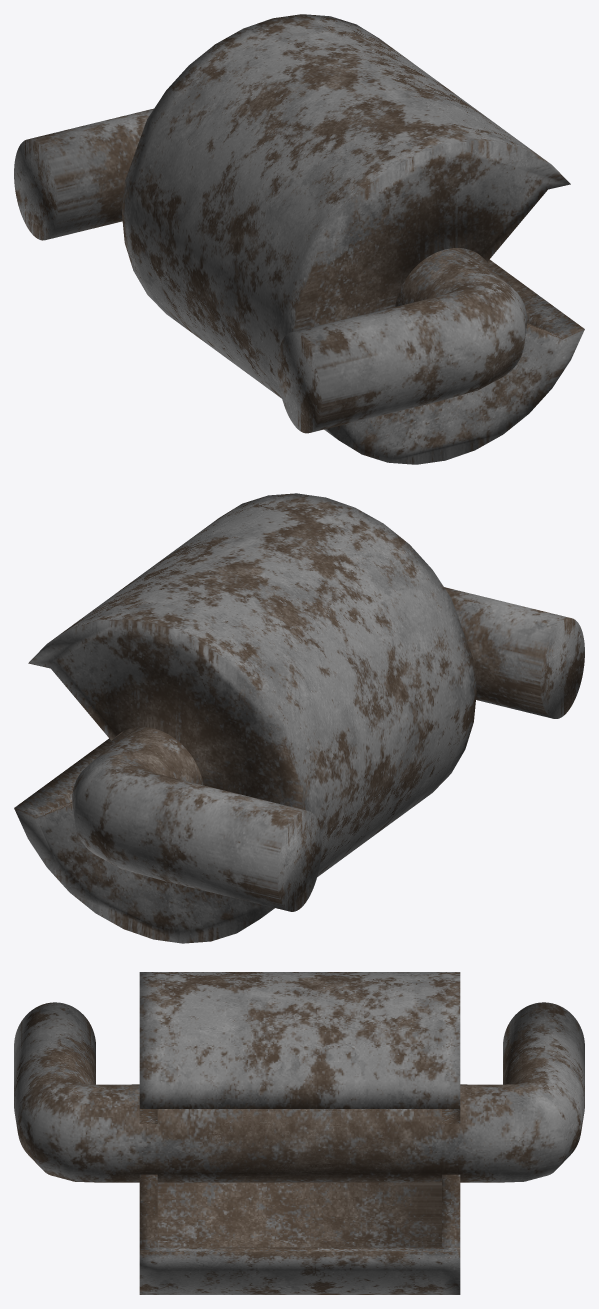
Rendered from do_rolki.glb.
The picture shows the model from 3 angles, top to bottom: view 1: azimuth 30°, elevation 25°; view 2: azimuth 150°, elevation 25°; view 3: azimuth 270°, elevation 25°; orthographic projection. The views are drawn at different scales.
Parts seen in each view (by area): view 1: Cylinder.001, Cylinder.003; view 2: Cylinder.001, Cylinder.003; view 3: Cylinder.001, Cylinder.003.
Part boxes in pixels (box(x1,y1,x2,y2)): Cylinder.001: box(122, 14, 584, 464); Cylinder.003: box(14, 108, 526, 433); Cylinder.001: box(14, 493, 476, 943); Cylinder.003: box(72, 587, 584, 911); Cylinder.001: box(139, 972, 460, 1294); Cylinder.003: box(14, 1002, 584, 1182).
Size of the model in its own units: 0.6879 by 0.6276 by 1.11.
1 material, 1 textured.
